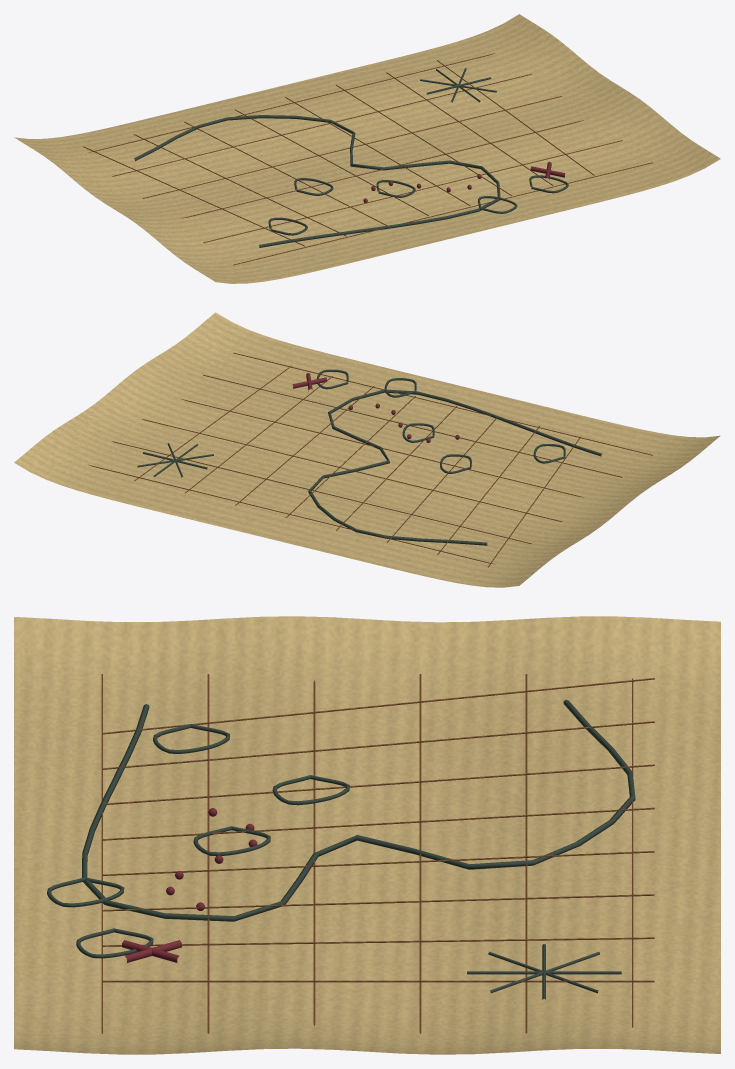
File: treasure-map.glb
The picture shows the model from 3 angles, top to bottom: view 1: azimuth 30°, elevation 25°; view 2: azimuth 150°, elevation 25°; view 3: azimuth 270°, elevation 25°; orthographic projection. The views are drawn at different scales.
Parts seen in each view (by area): view 1: treasure-map; view 2: treasure-map; view 3: treasure-map.
Boxes of the visible parts, x1,y1,x2,y2 form: treasure-map: [14, 14, 720, 283]; treasure-map: [14, 312, 720, 587]; treasure-map: [14, 616, 720, 1054].
Bounding box in the file's own units: 0.55 × 0.018 × 0.38.
Materials: 4 (2 with a texture image).
